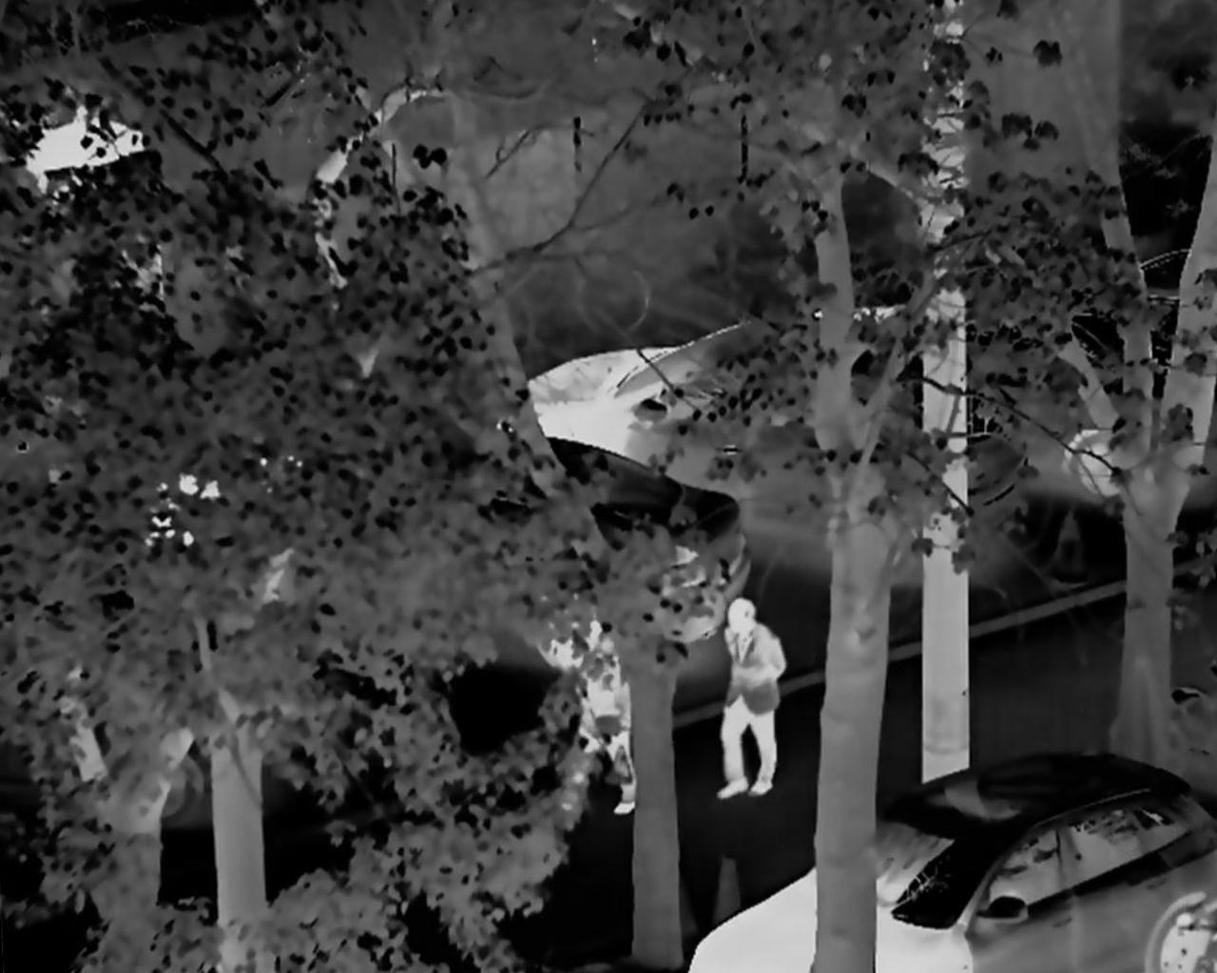person: (703, 595, 794, 812), (567, 620, 659, 831)
